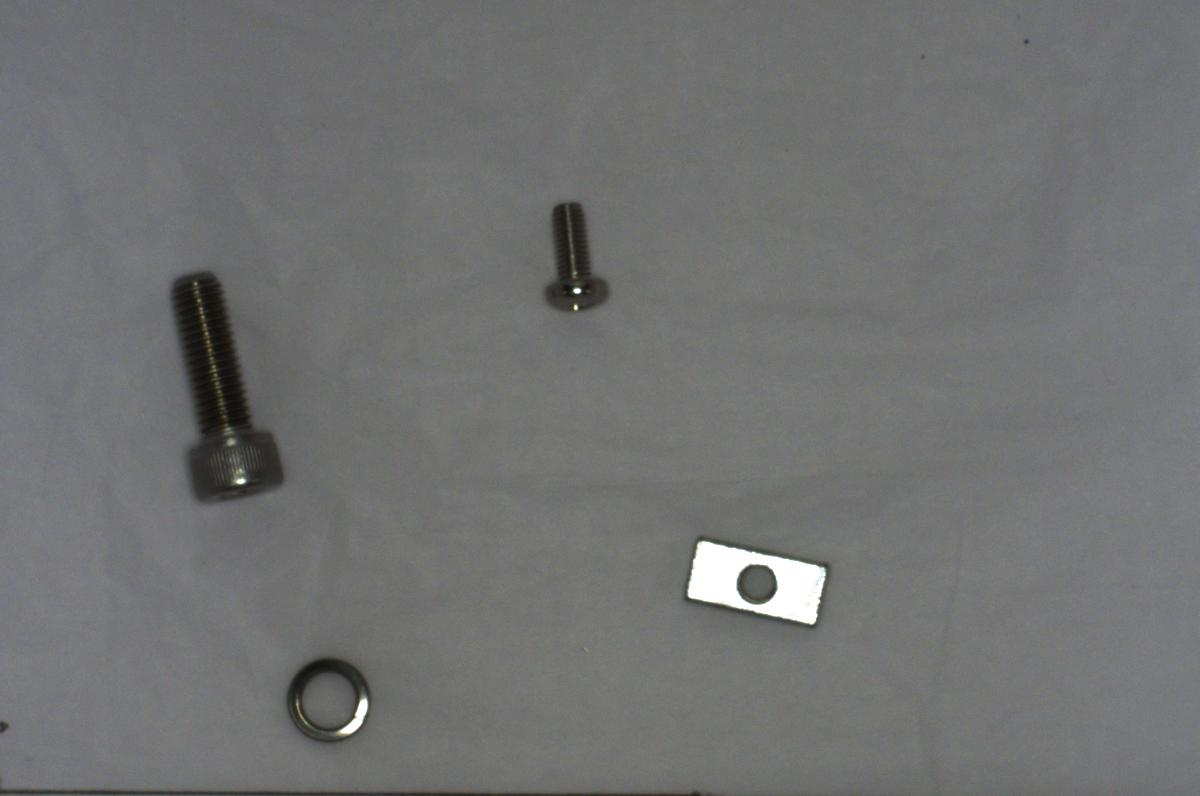Hexagon screw: (159, 262, 291, 505)
Rectangular nut: (675, 527, 833, 630)
Round head screw: (544, 193, 612, 318)
Spring washer: (282, 653, 377, 747)
